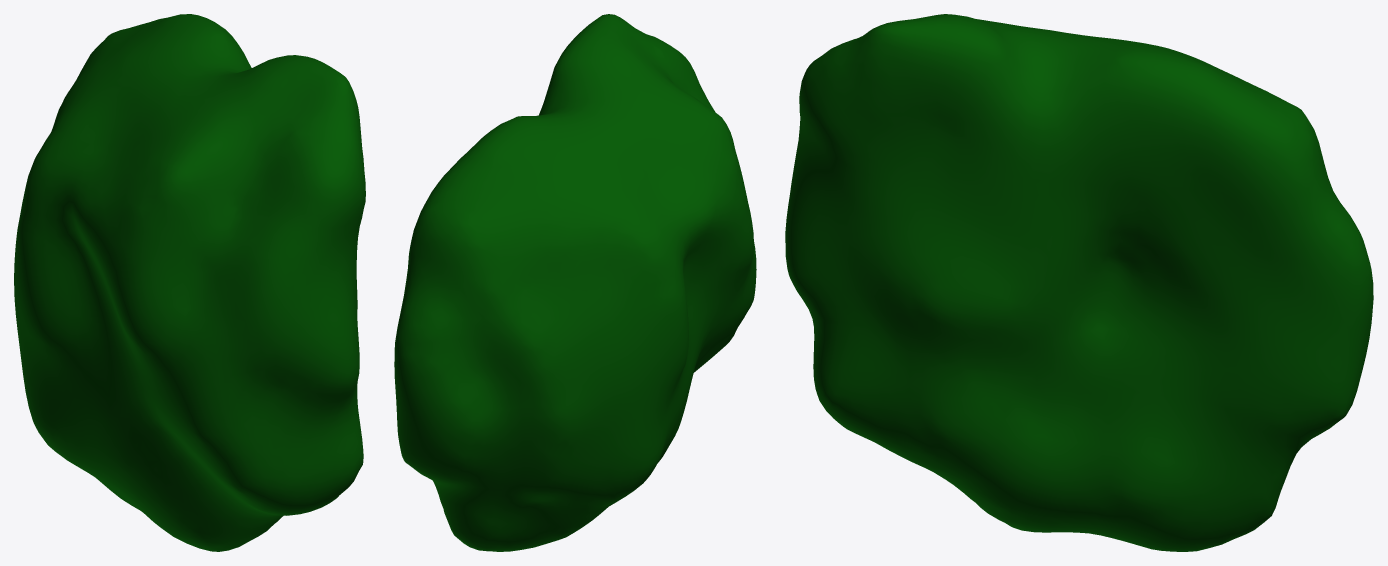
The model's file is Lesion.obj.
The picture shows the model from 3 angles, left to right: view 1: azimuth 30°, elevation 25°; view 2: azimuth 150°, elevation 25°; view 3: azimuth 270°, elevation 25°; orthographic projection. The views are drawn at different scales.
Parts seen in each view (by area): view 1: grp1; view 2: grp1; view 3: grp1.
Boxes of the visible parts, left/top/right/bottom form: grp1: left=14, top=14, right=365, bottom=551; grp1: left=394, top=14, right=756, bottom=551; grp1: left=785, top=14, right=1373, bottom=551.
Size of the model in its own units: 17.34 by 35.3 by 35.09.
